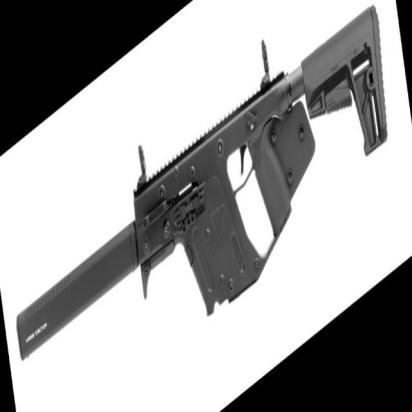Gun: (15, 7, 386, 372)
